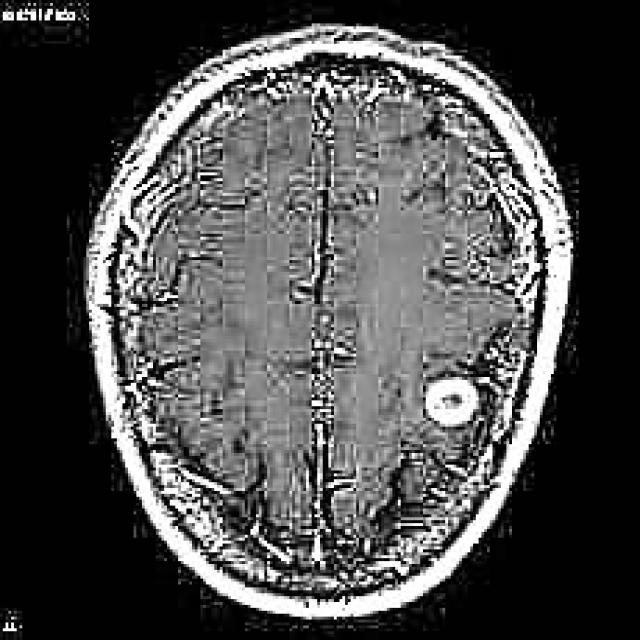Tumor-Cell: (410, 365, 474, 435)
